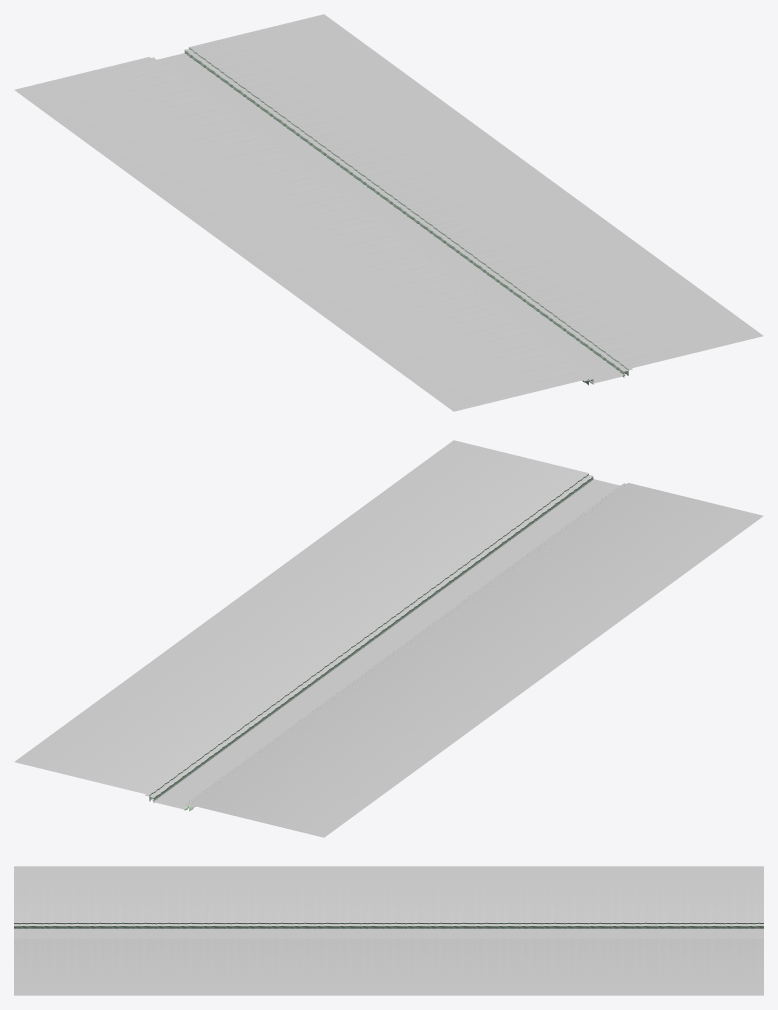
The model's file is StrightModule.fbx.
3 views of the same model, one above another, from view 1: azimuth 30°, elevation 25°; view 2: azimuth 150°, elevation 25°; view 3: azimuth 270°, elevation 25° (orthographic). The views are drawn at different scales.
Parts seen in each view (by area): view 1: Cube.046, Cube.047, Cube.037; view 2: Cube.046, Cube.047, Cube.037; view 3: Cube.047, Cube.046, Cube.037.
Part boxes in pixels (bbox=[...]): Cube.046: bbox=[184, 14, 763, 377]; Cube.047: bbox=[14, 57, 593, 411]; Cube.037: bbox=[157, 53, 625, 383]; Cube.046: bbox=[14, 440, 593, 802]; Cube.047: bbox=[184, 483, 763, 837]; Cube.037: bbox=[152, 479, 619, 809]; Cube.047: bbox=[14, 866, 763, 928]; Cube.046: bbox=[14, 938, 763, 995]; Cube.037: bbox=[14, 928, 763, 938].
Bounding box in the file's own units: 13516 × 309 × 33187.
